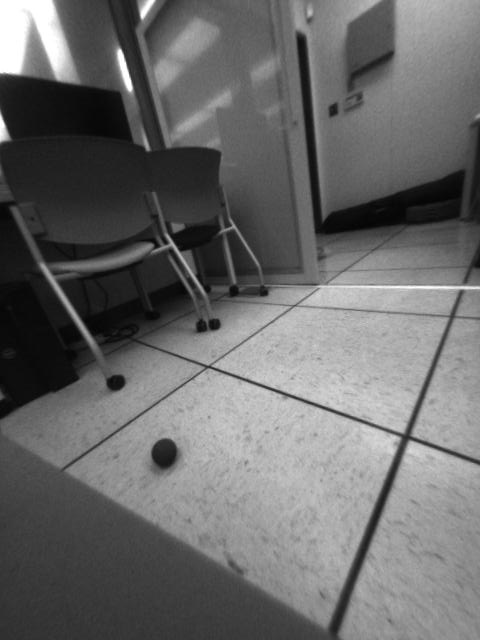dogtoy: (143, 430, 185, 475)
